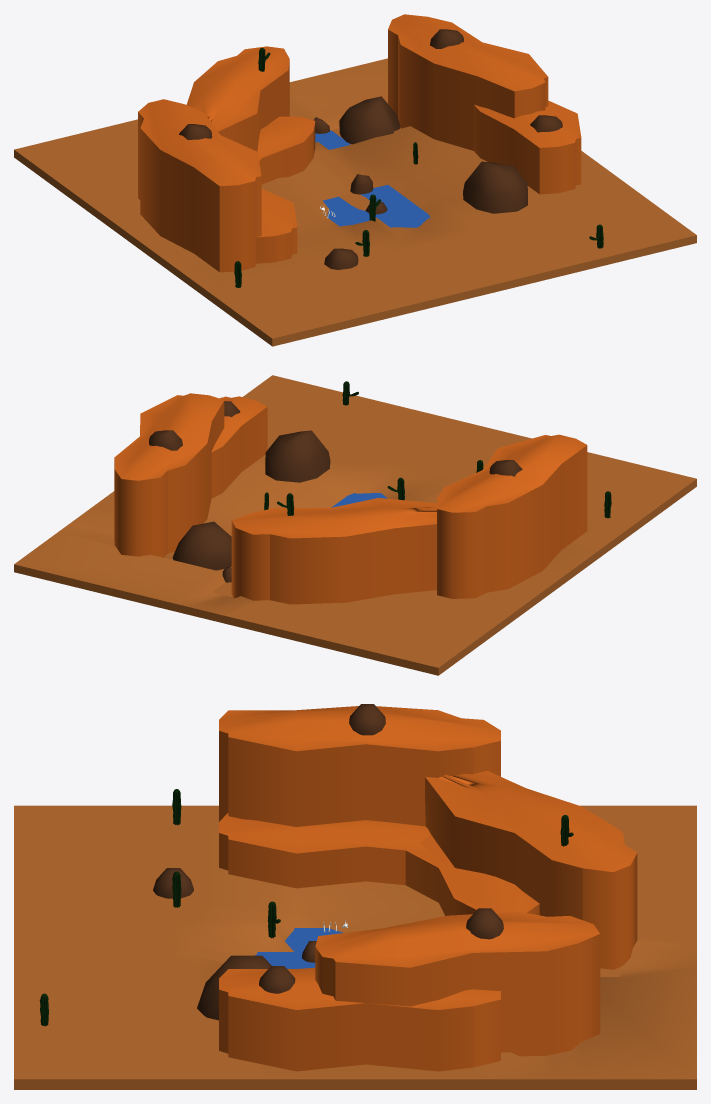
The model's file is Desert_1263.obj.
3 views of the same model, one above another, from view 1: azimuth 30°, elevation 25°; view 2: azimuth 150°, elevation 25°; view 3: azimuth 270°, elevation 25° (orthographic). The views are drawn at different scales.
Parts seen in each view (by area): view 1: Box025; view 2: Box025; view 3: Box025.
Part boxes in pixels (box(x1,y1,x2,y2)): Box025: box(14, 14, 696, 346); Box025: box(14, 375, 696, 675); Box025: box(14, 704, 696, 1089).
Size of the model in its own units: 333 by 86.73 by 351.
